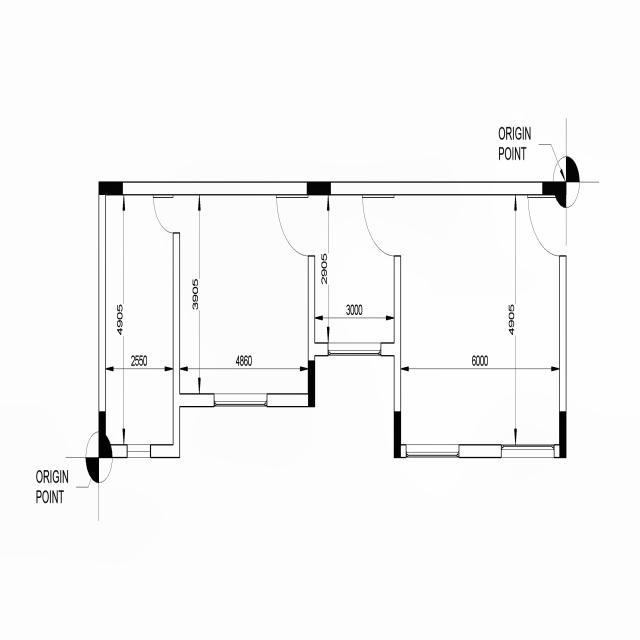Column: (306, 181, 332, 196), (559, 411, 567, 458), (394, 411, 402, 458), (98, 182, 124, 196), (542, 182, 566, 196), (308, 360, 315, 408), (98, 411, 105, 458)
Door: (276, 195, 315, 256), (362, 194, 400, 256), (528, 196, 566, 256), (153, 195, 180, 232)
Window: (406, 444, 460, 458), (214, 393, 267, 407), (501, 444, 554, 458), (328, 343, 381, 356), (127, 444, 151, 458)
